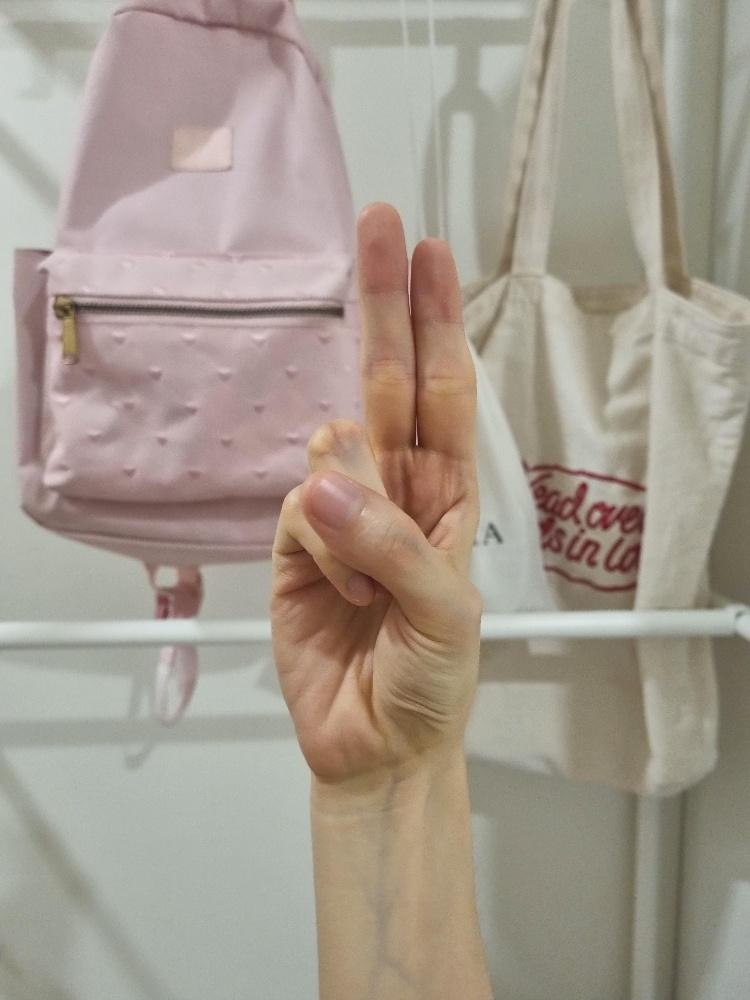u: (267, 198, 482, 778)
